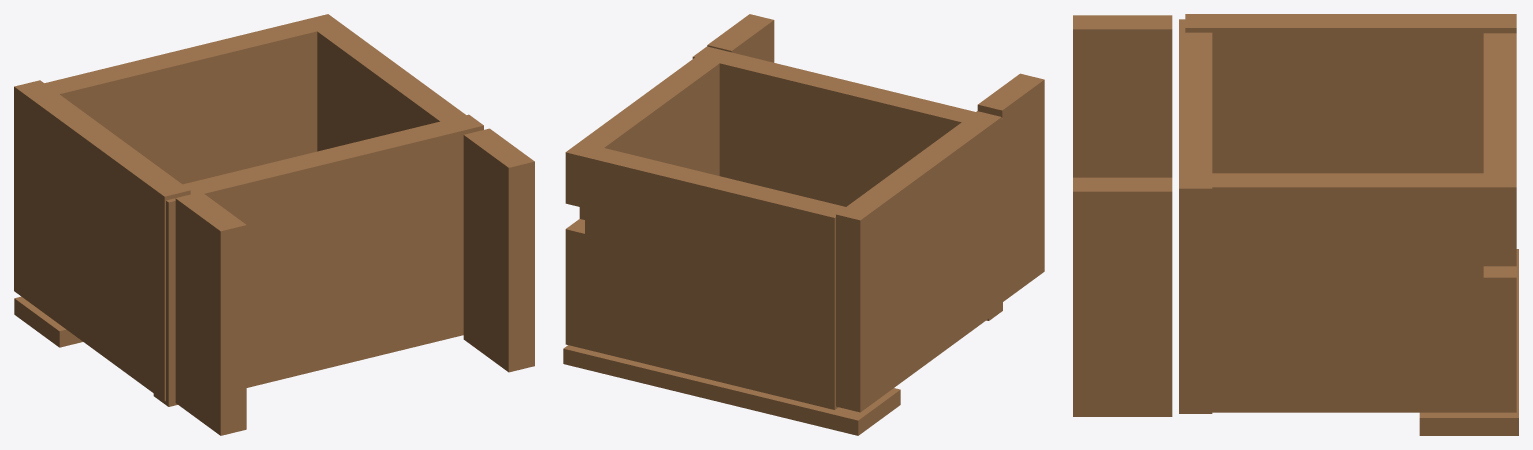
File: tinker.obj
3 views of the same model, side by side, from view 1: azimuth 30°, elevation 25°; view 2: azimuth 150°, elevation 25°; view 3: azimuth 270°, elevation 25° (orthographic). The views are drawn at different scales.
Parts seen in each view (by area): view 1: obj_0; view 2: obj_0; view 3: obj_0.
Part boxes in pixels (x1,y1,x2,y2): obj_0: (14, 14, 534, 435); obj_0: (563, 14, 1044, 435); obj_0: (1073, 14, 1518, 435).
Size of the model in its own units: 245 by 169 by 269.
